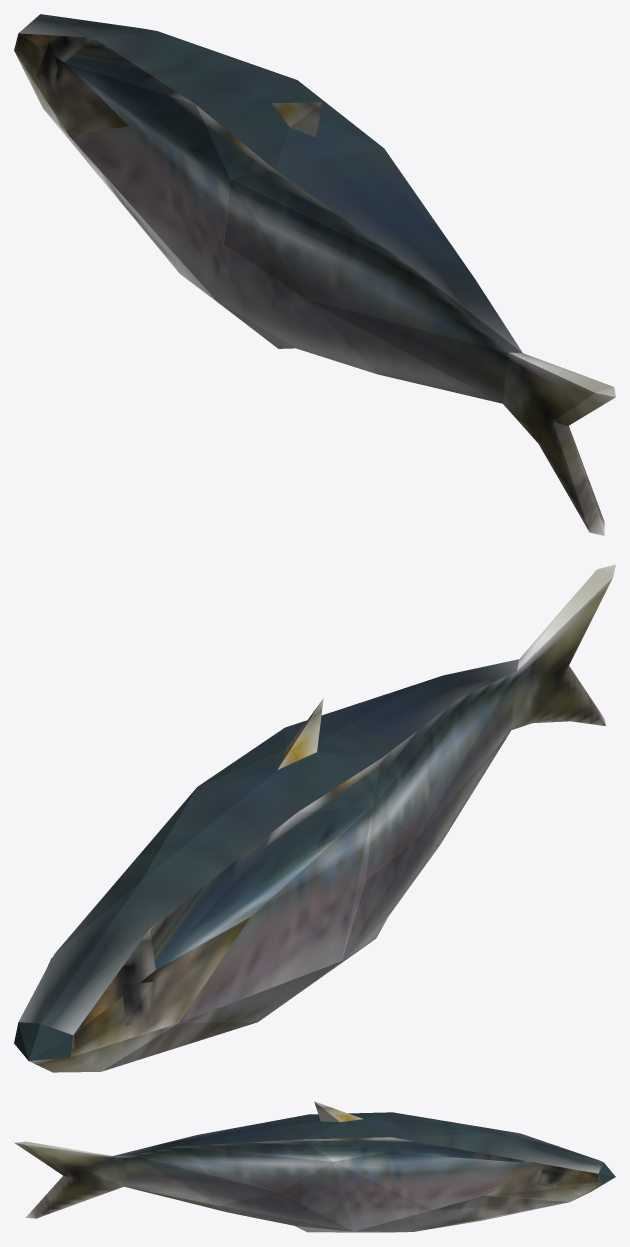
The model's file is sardine_LOD2.glb.
3 views of the same model, one above another, from view 1: azimuth 30°, elevation 25°; view 2: azimuth 150°, elevation 25°; view 3: azimuth 270°, elevation 25° (orthographic). The views are drawn at different scales.
Parts seen in each view (by area): view 1: sardine; view 2: sardine; view 3: sardine.
Part boxes in pixels (x1=…): sardine: x1=14, y1=14, x2=615, y2=535; sardine: x1=14, y1=564, x2=615, y2=1072; sardine: x1=14, y1=1101, x2=615, y2=1232.
Size of the model in its own units: 0.258 by 0.4214 by 1.83.
Materials: 1 (1 with a texture image).
